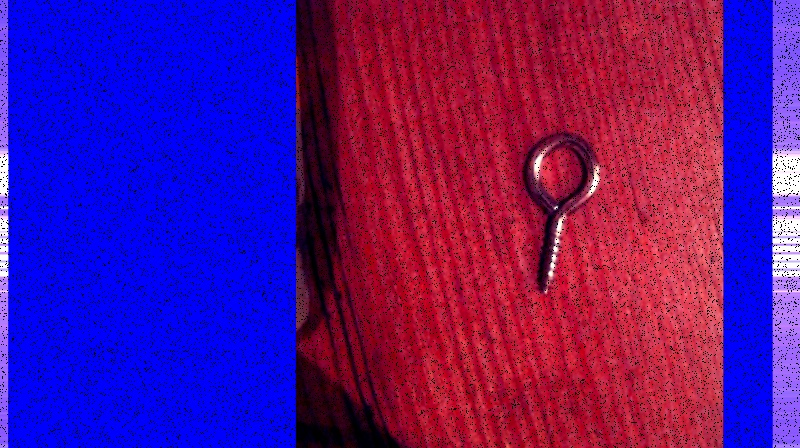O001: (521, 130, 603, 297)
